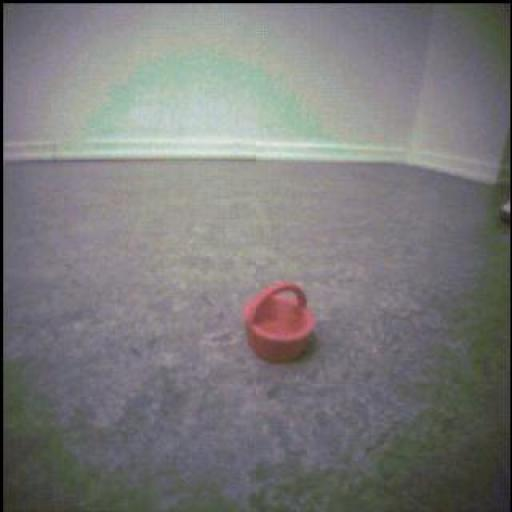Bucket: (244, 283, 316, 364)
